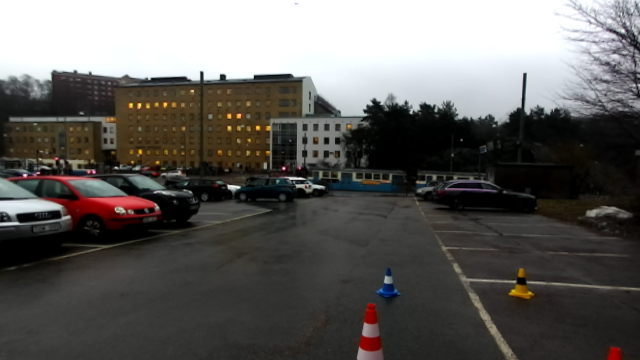blue: (377, 267, 401, 297)
yellow: (509, 265, 534, 300)
